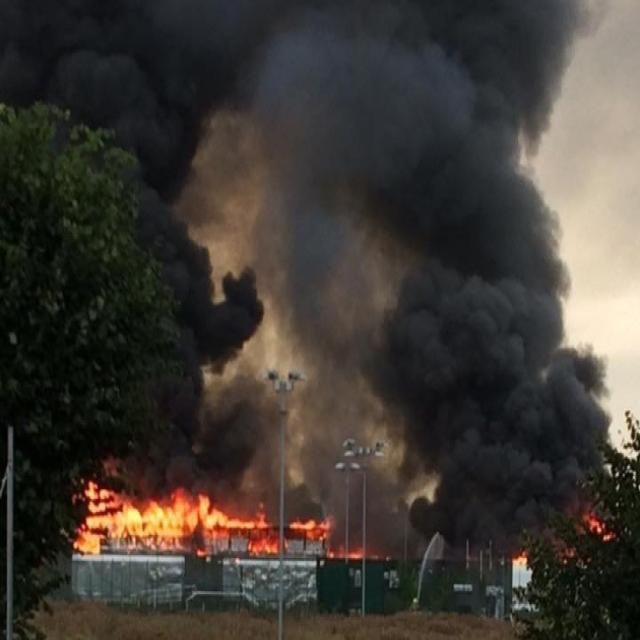Fire: (82, 469, 296, 563)
Smoke: (273, 0, 603, 549), (1, 0, 313, 253)
